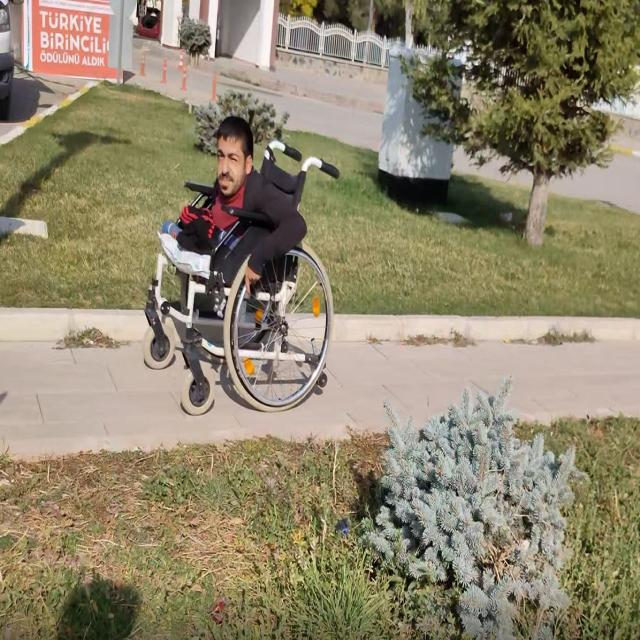wheelchairs: (134, 135, 347, 405)
